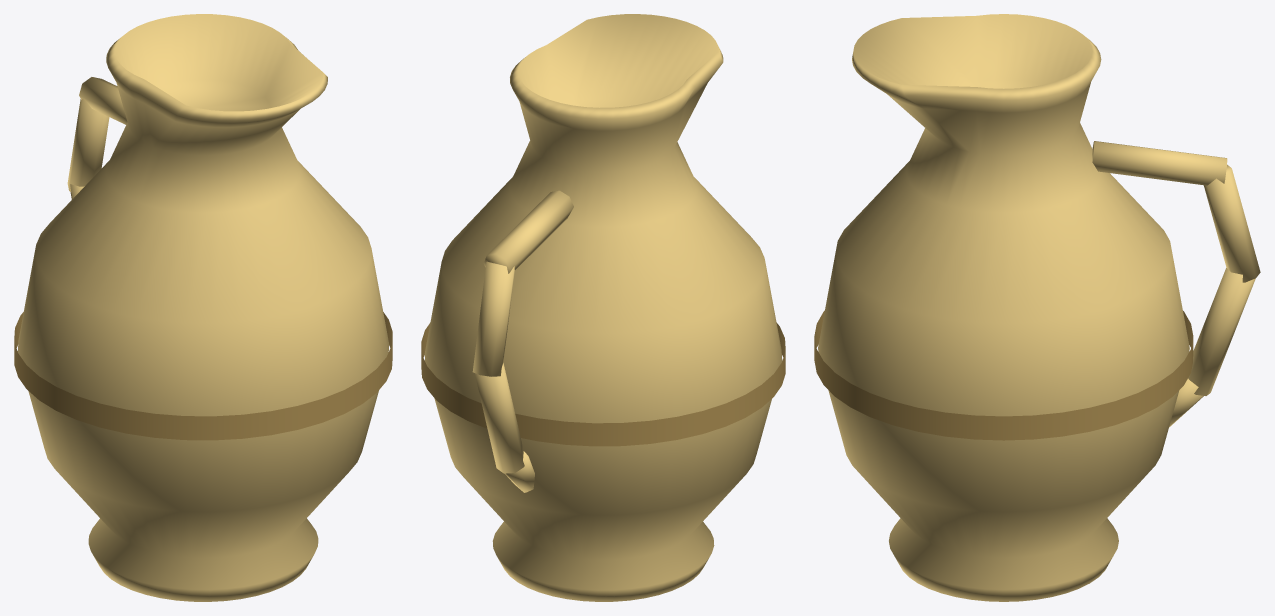
The model's file is treasury_jug.glb.
3 views of the same model, side by side, from view 1: azimuth 30°, elevation 25°; view 2: azimuth 150°, elevation 25°; view 3: azimuth 270°, elevation 25° (orthographic). The views are drawn at different scales.
Visible parts, largest first — view 1: jug, jug_band, jug_handle; view 2: jug, jug_handle, jug_band; view 3: jug, jug_handle, jug_band.
Boxes of the visible parts, x1,y1,x2,y2 form: jug: [17, 14, 389, 601]; jug_band: [14, 312, 392, 440]; jug_handle: [67, 77, 127, 199]; jug: [424, 14, 782, 601]; jug_handle: [472, 190, 573, 492]; jug_band: [421, 323, 785, 446]; jug: [818, 14, 1189, 601]; jug_handle: [1092, 141, 1260, 427]; jug_band: [814, 310, 1193, 440].
Size of the model in its own units: 0.428 by 0.63 by 0.5039.
